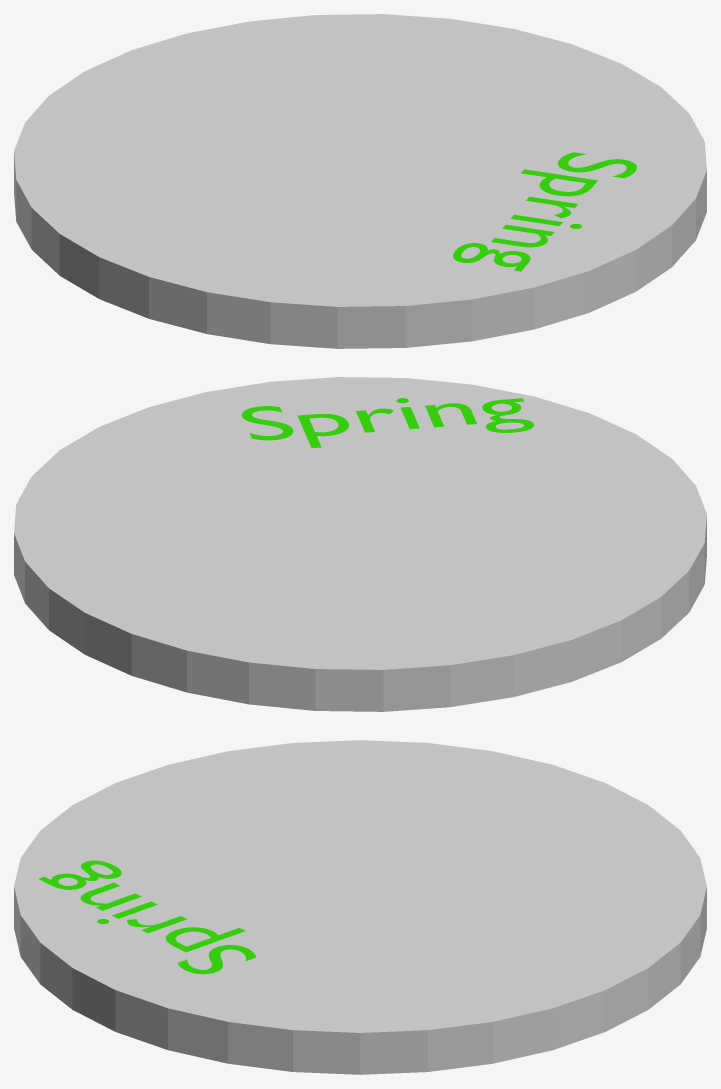
The model's file is TERRAIN_spring.glb.
3 views of the same model, one above another, from view 1: azimuth 30°, elevation 25°; view 2: azimuth 150°, elevation 25°; view 3: azimuth 270°, elevation 25° (orthographic).
Parts seen in each view (by area): view 1: Cylinder, Text; view 2: Cylinder, Text; view 3: Cylinder, Text.
Boxes of the visible parts, x1,y1,x2,y2 form: Cylinder: (14, 14, 706, 348); Text: (453, 152, 636, 271); Cylinder: (14, 377, 706, 711); Text: (241, 398, 533, 448); Cylinder: (14, 740, 706, 1074); Text: (38, 860, 255, 974).
Size of the model in its own units: 6 by 0.4697 by 6.
